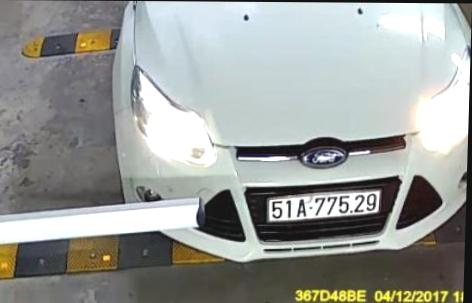License_Plate: (260, 185, 385, 228)
